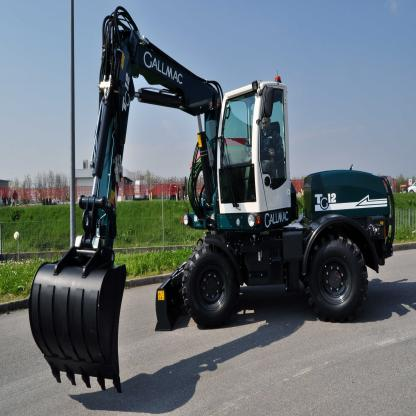excavator: (10, 10, 405, 386)
